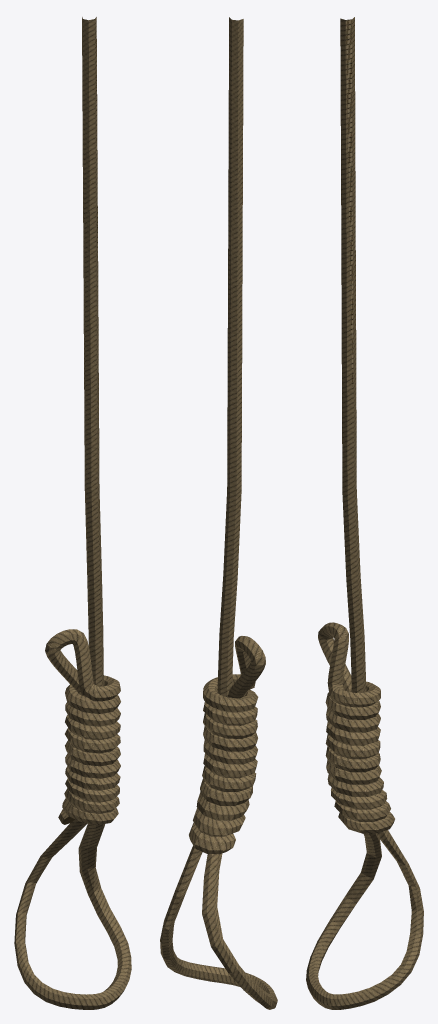
The model's file is Corde_Pendu.glb.
3 views of the same model, side by side, from view 1: azimuth 30°, elevation 25°; view 2: azimuth 150°, elevation 25°; view 3: azimuth 330°, elevation 25° (orthographic).
Visible parts, largest first — view 1: Object_0; view 2: Object_0; view 3: Object_0.
Boxes of the visible parts, x1,y1,x2,y2 form: Object_0: [14, 17, 131, 1009]; Object_0: [160, 17, 277, 1009]; Object_0: [306, 17, 423, 1009].
Bounding box in the file's own units: 0.2329 × 2.17 × 0.2341.
1 material, 1 textured.
